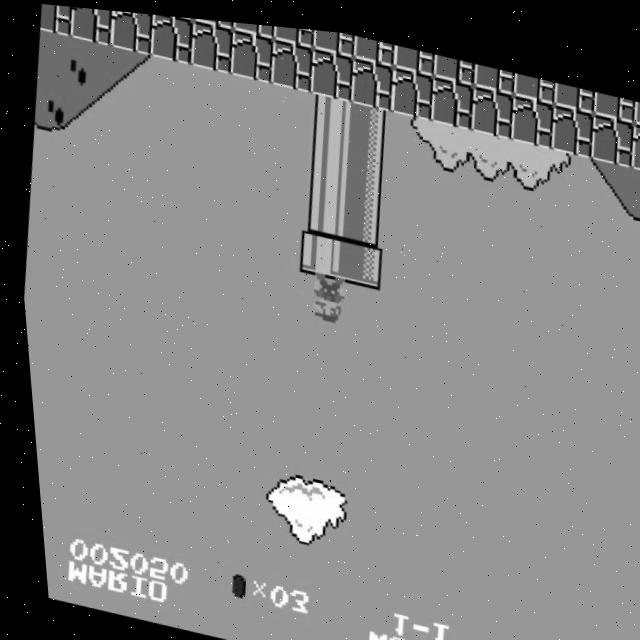11- little_mario: (297, 265, 349, 323)
14- pipe: (299, 131, 350, 186), (342, 95, 393, 150), (339, 140, 390, 194), (303, 87, 353, 141), (336, 185, 386, 239), (296, 177, 346, 230)
15- pipe_head: (292, 221, 343, 275), (332, 230, 382, 284)
17- undestructible_block: (266, 33, 317, 88), (426, 67, 477, 122), (226, 25, 277, 79), (186, 16, 236, 71), (346, 50, 396, 105), (466, 76, 516, 131), (546, 93, 596, 148), (306, 42, 356, 96), (386, 59, 436, 113), (506, 85, 556, 139), (586, 102, 636, 156), (146, 11, 196, 62), (107, 8, 157, 53), (67, 5, 116, 45), (351, 29, 397, 60), (391, 37, 437, 68), (431, 46, 477, 77), (511, 63, 557, 94), (551, 71, 597, 102), (591, 80, 637, 111), (471, 54, 516, 85), (38, 3, 76, 36), (311, 24, 357, 51), (271, 21, 316, 43), (626, 110, 640, 162), (232, 18, 277, 34), (192, 15, 236, 25), (631, 89, 640, 117)
